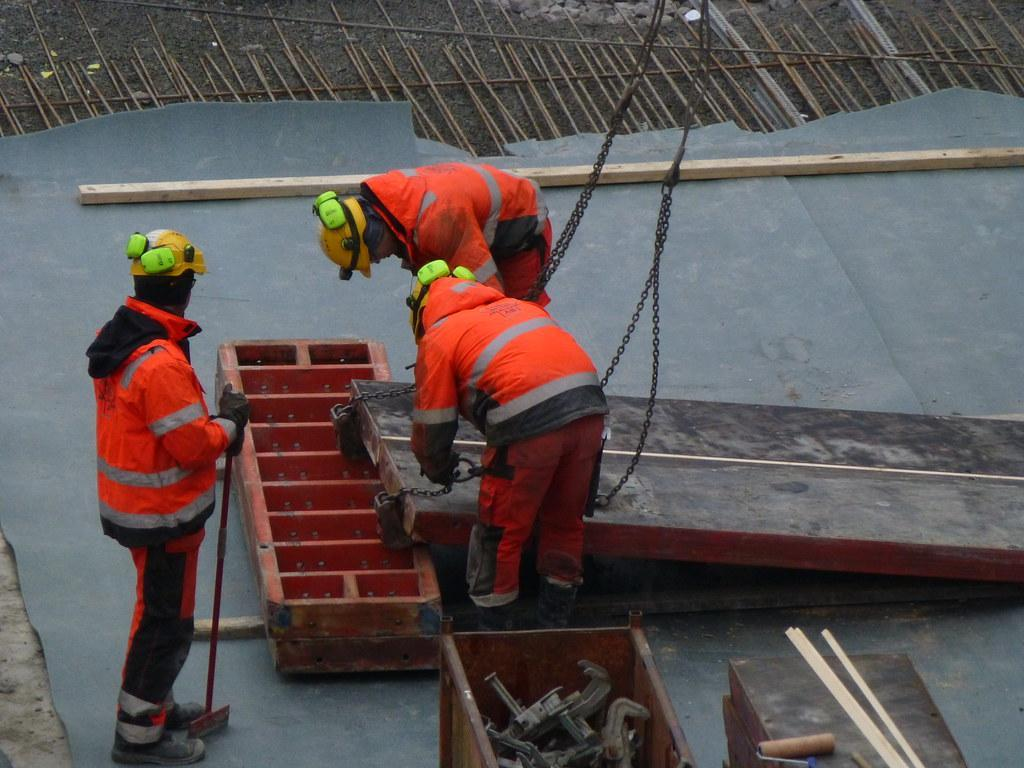person: (83, 221, 253, 768), (406, 244, 616, 634)
vest: (76, 324, 226, 599), (420, 277, 604, 416)
